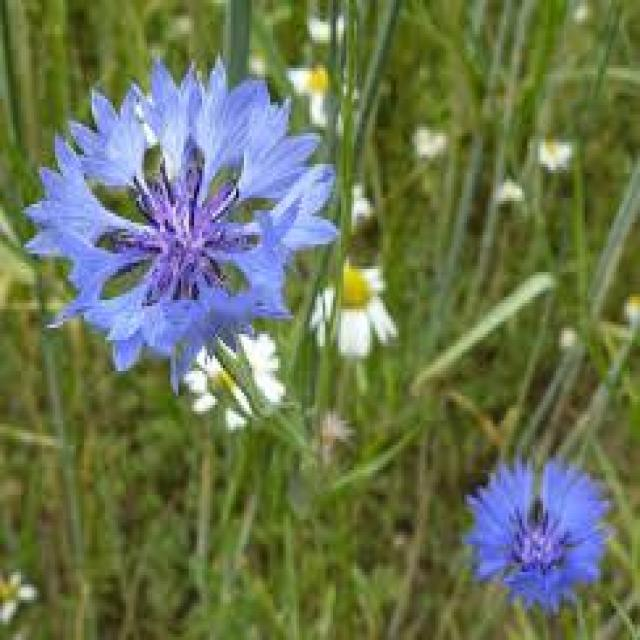organic waste: (43, 62, 329, 343), (469, 454, 622, 606), (302, 261, 414, 357), (196, 318, 294, 426)
